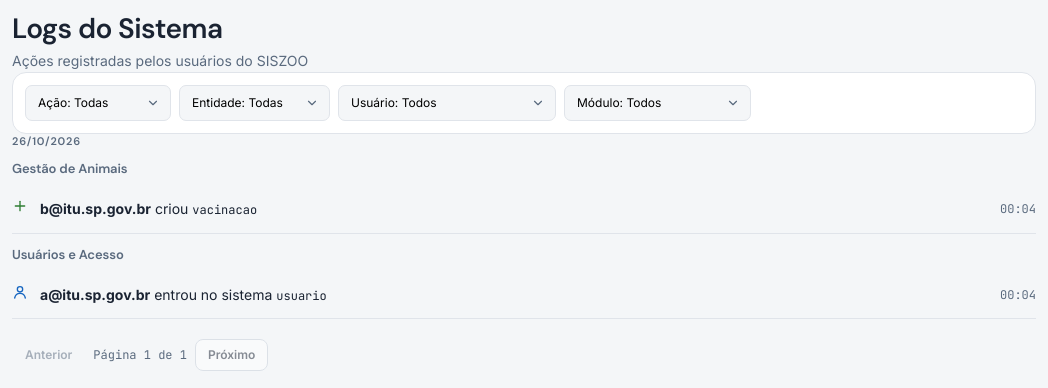
Test: Logs › filtrar por módulo mostra só os eventos daquele módulo
Expected: the text "a@itu.sp.gov.br" is shown, [40, 286, 150, 303]
Select "Usuários e Acesso" in the dropdown named "Filtrar por módulo" at x=658, y=103, box [564, 85, 751, 121]
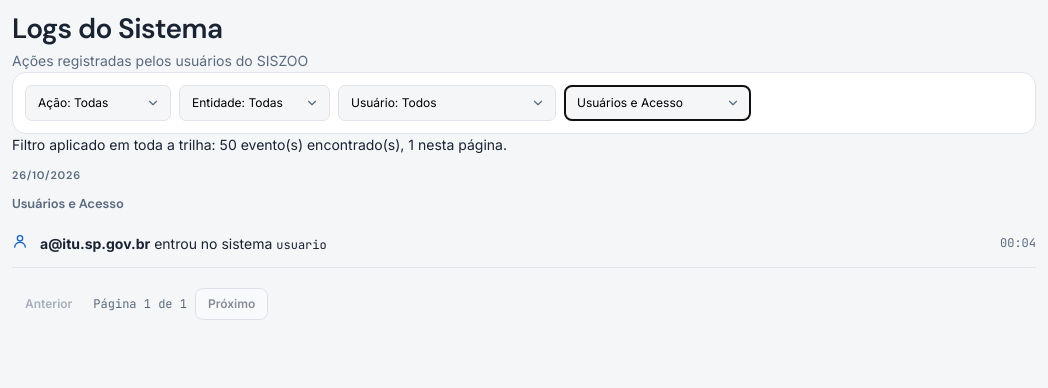
Expected: the text "Filtro aplicado em toda a trilha: 50 evento(s) encontrado(s), 1 nesta página." is shown, [12, 136, 507, 153]
Expected: the text "b@itu.sp.gov.br" is gone
